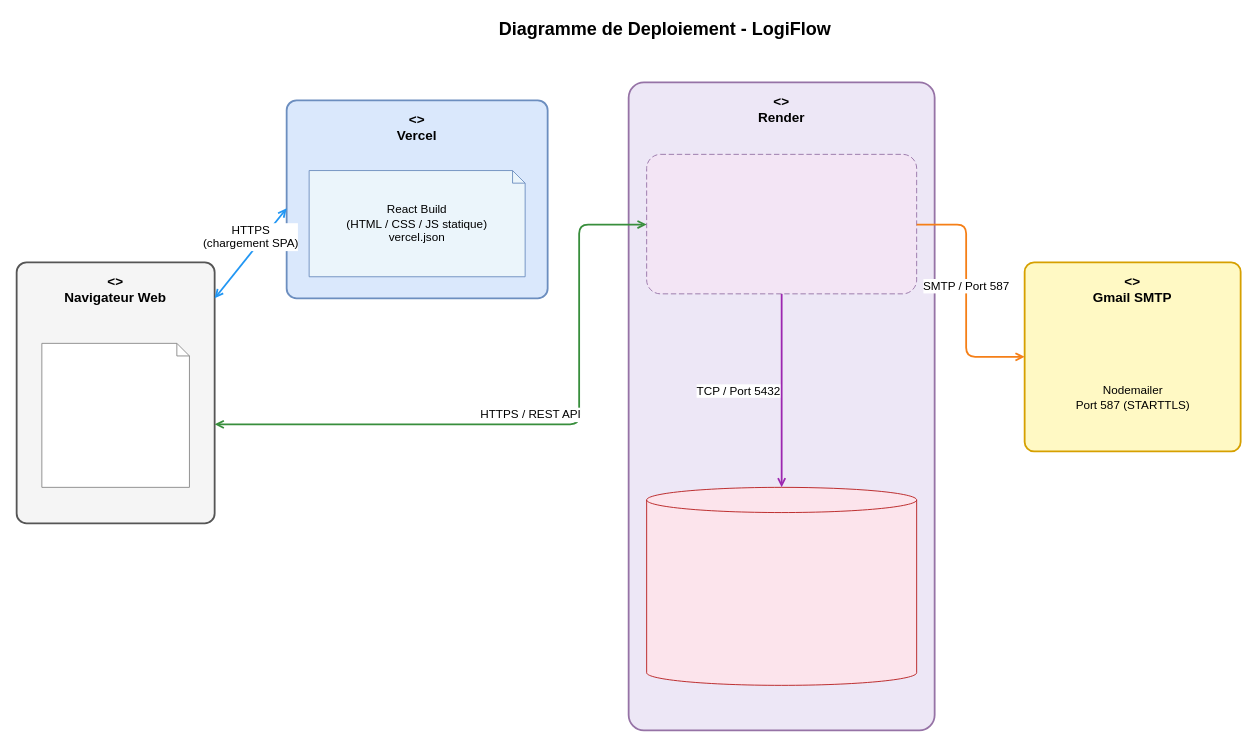
The diagram is 1256 pixels wide and 746 high, and some of its shapes have lost their labels. Each missing label, with the centre of its shape:
<> NestJS API (Node.js v18): point (781, 223)
<> PostgreSQL (Render DB): point (781, 585)
Application React (SPA): point (115, 414)
